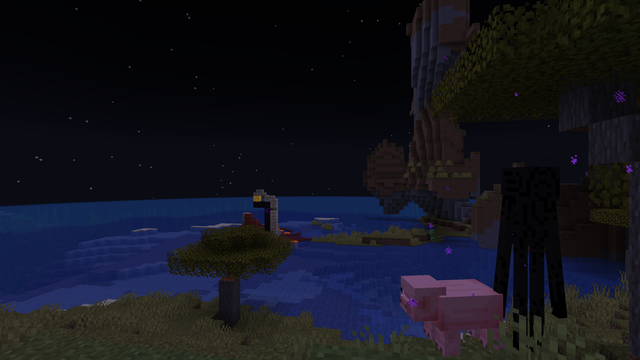cochons: (423, 274, 504, 358)
creepers: (429, 229, 433, 240)
endermens: (497, 160, 565, 359)
